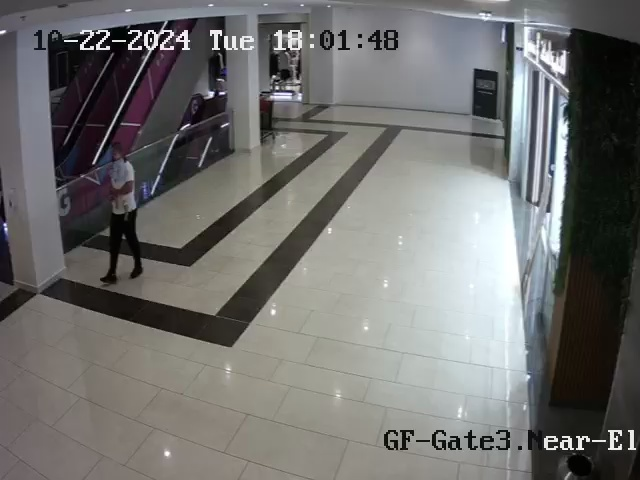female: (99, 142, 143, 284)
